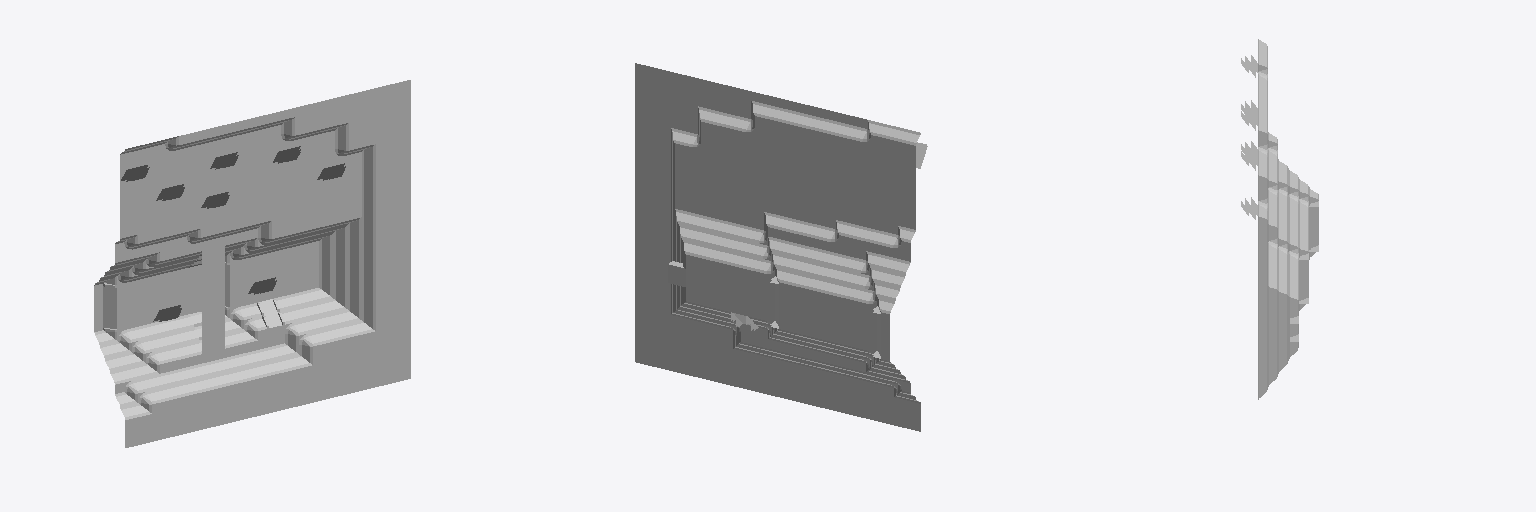
File: Plat_full_10_06.obj
3 views of the same model, side by side, from view 1: azimuth 30°, elevation 25°; view 2: azimuth 150°, elevation 25°; view 3: azimuth 270°, elevation 25° (orthographic).
Visible parts, largest first — view 1: map; view 2: map; view 3: map.
Boxes of the visible parts, <box> form: map: <box>94,80,410,447</box>; map: <box>635,63,927,431</box>; map: <box>1241,39,1318,399</box>.
Size of the model in its own units: 32.25 by 32 by 7.64.